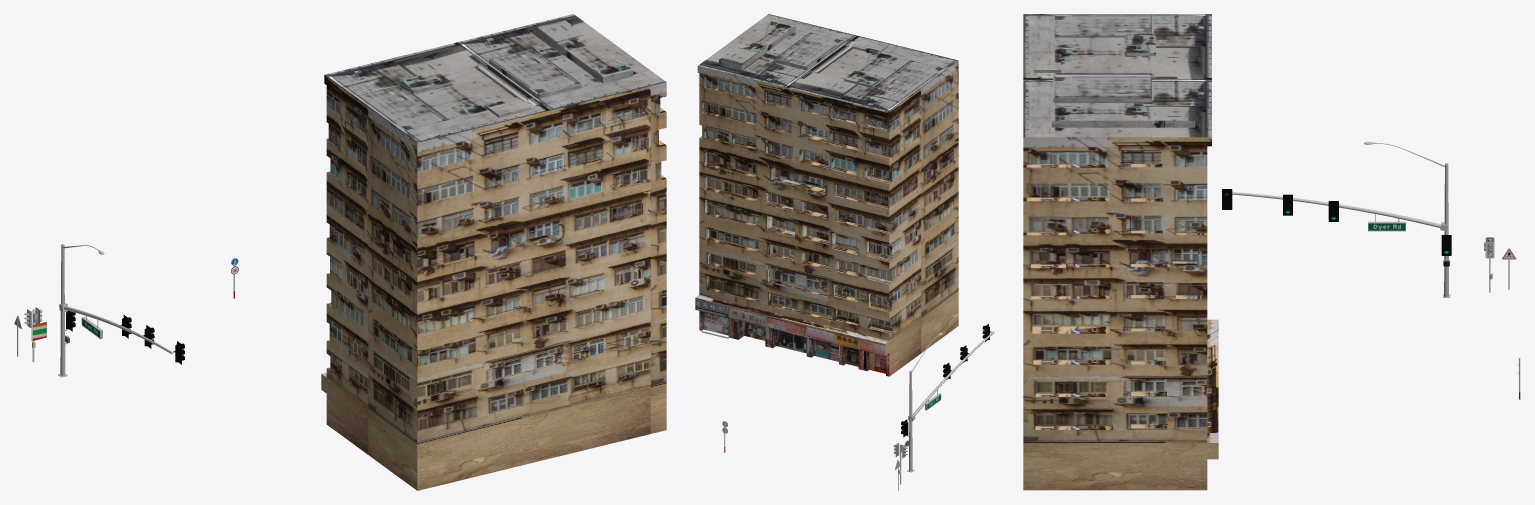
The model's file is block-hk-3.glb.
3 renders of one model, left to right at view 1: azimuth 30°, elevation 25°; view 2: azimuth 150°, elevation 25°; view 3: azimuth 270°, elevation 25°, orthographic. The views are drawn at different scales.
Parts seen in each view (by area): view 1: Material2 (×3), Material3; view 2: Material2 (×4), Material3; view 3: Material2 (×4), Material3.
Part boxes in pixels (bbox=[...]): Material2 (×3): bbox=[58, 14, 666, 490]; Material3: bbox=[14, 257, 238, 364]; Material2 (×4): bbox=[695, 14, 994, 472]; Material3: bbox=[722, 324, 991, 490]; Material2 (×4): bbox=[1023, 14, 1450, 490]; Material3: bbox=[1222, 189, 1520, 399].
Bounding box in the file's own units: 70 × 55.79 × 69.46.
Materials: 10 (10 with a texture image).
